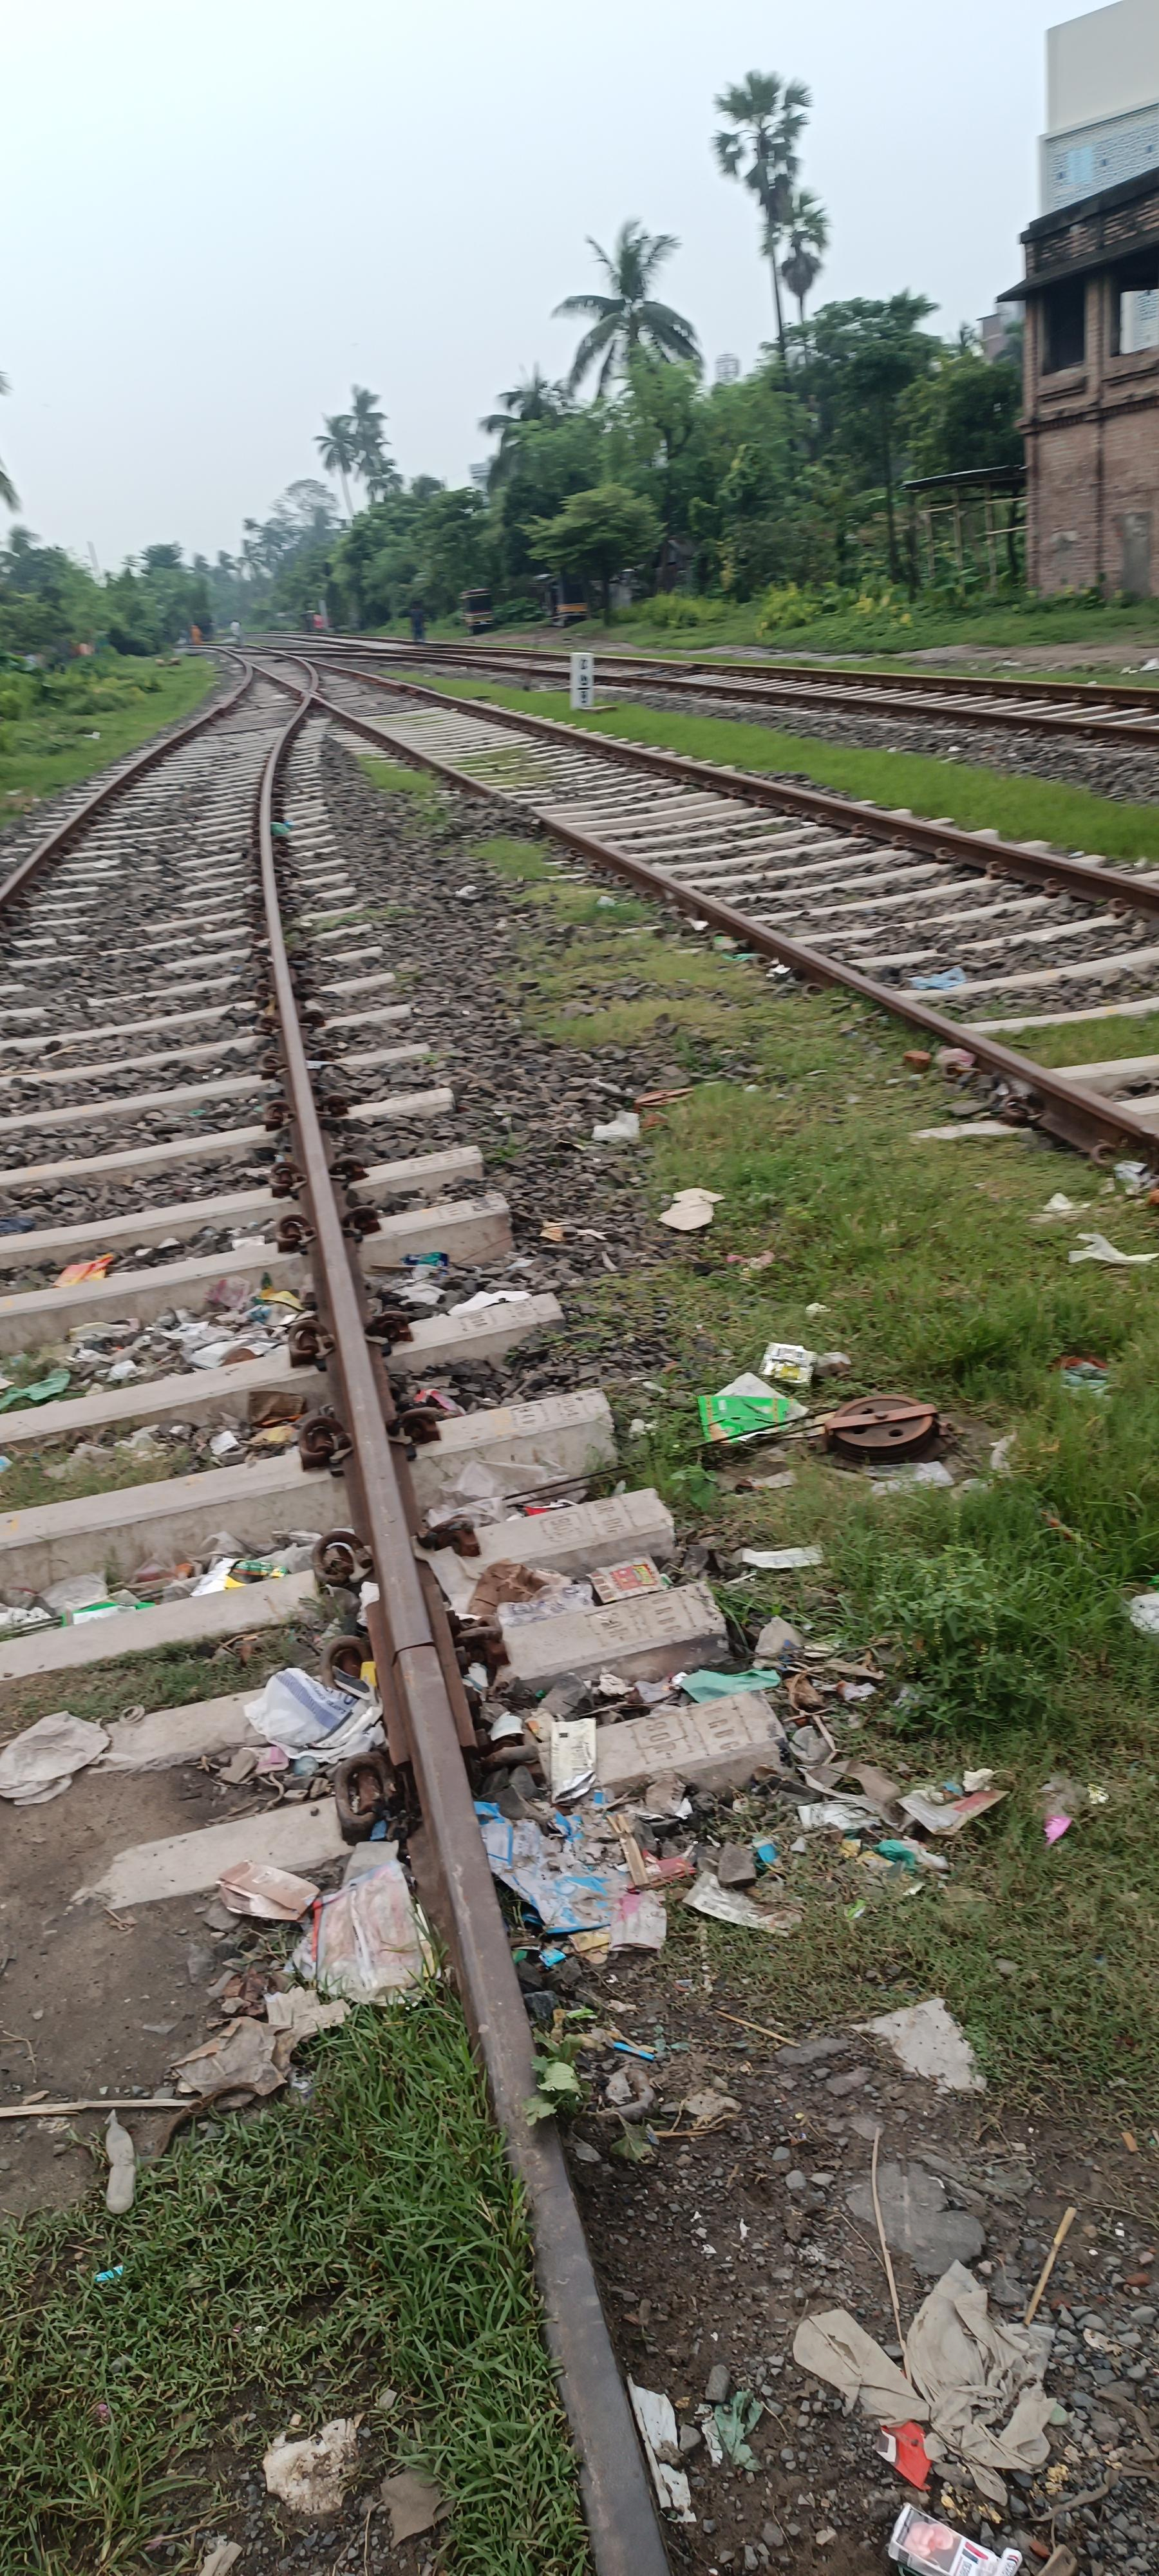Obstacle: (39, 600, 1159, 2570)
